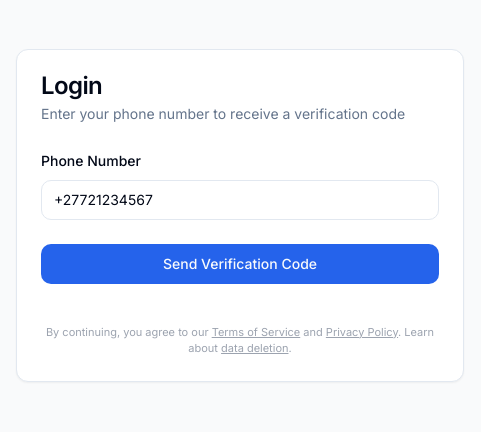
LoginPage OTP flow › shows validation error for invalid phone number and does not call API
The width and height of the screenshot is (481, 432).
Replace the text in the field labelled "Phone Number" with "123" at (240, 200), box left=41, top=180, right=439, bottom=220
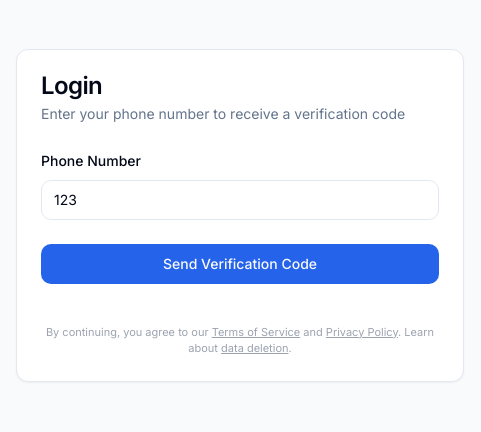
Click the button "Send Verification Code".
click(240, 264)  # box left=41, top=244, right=439, bottom=284
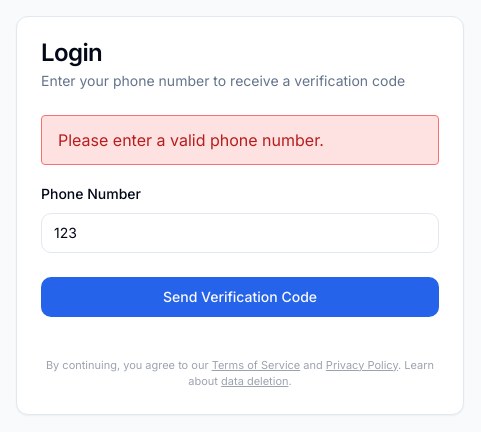
Expected: the text "Please enter a valid phone number." is shown, left=41, top=114, right=439, bottom=164
